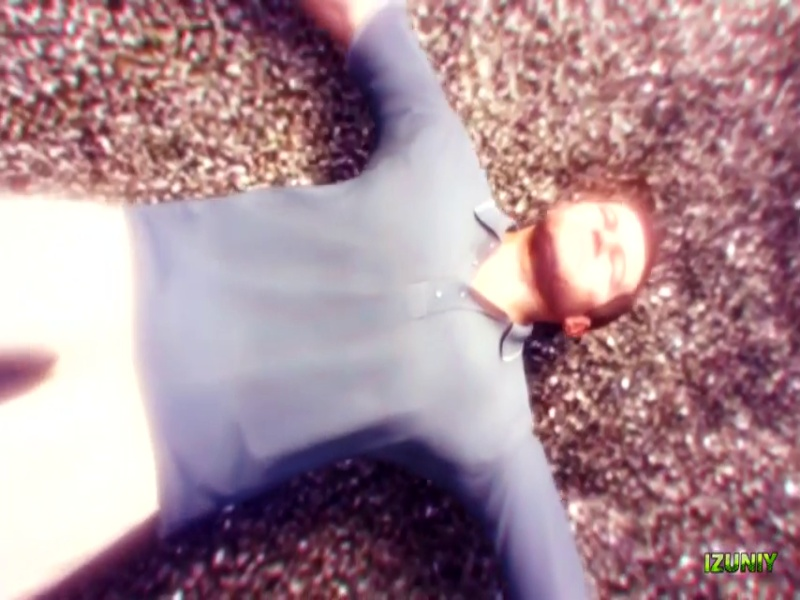human: (23, 0, 720, 599)
